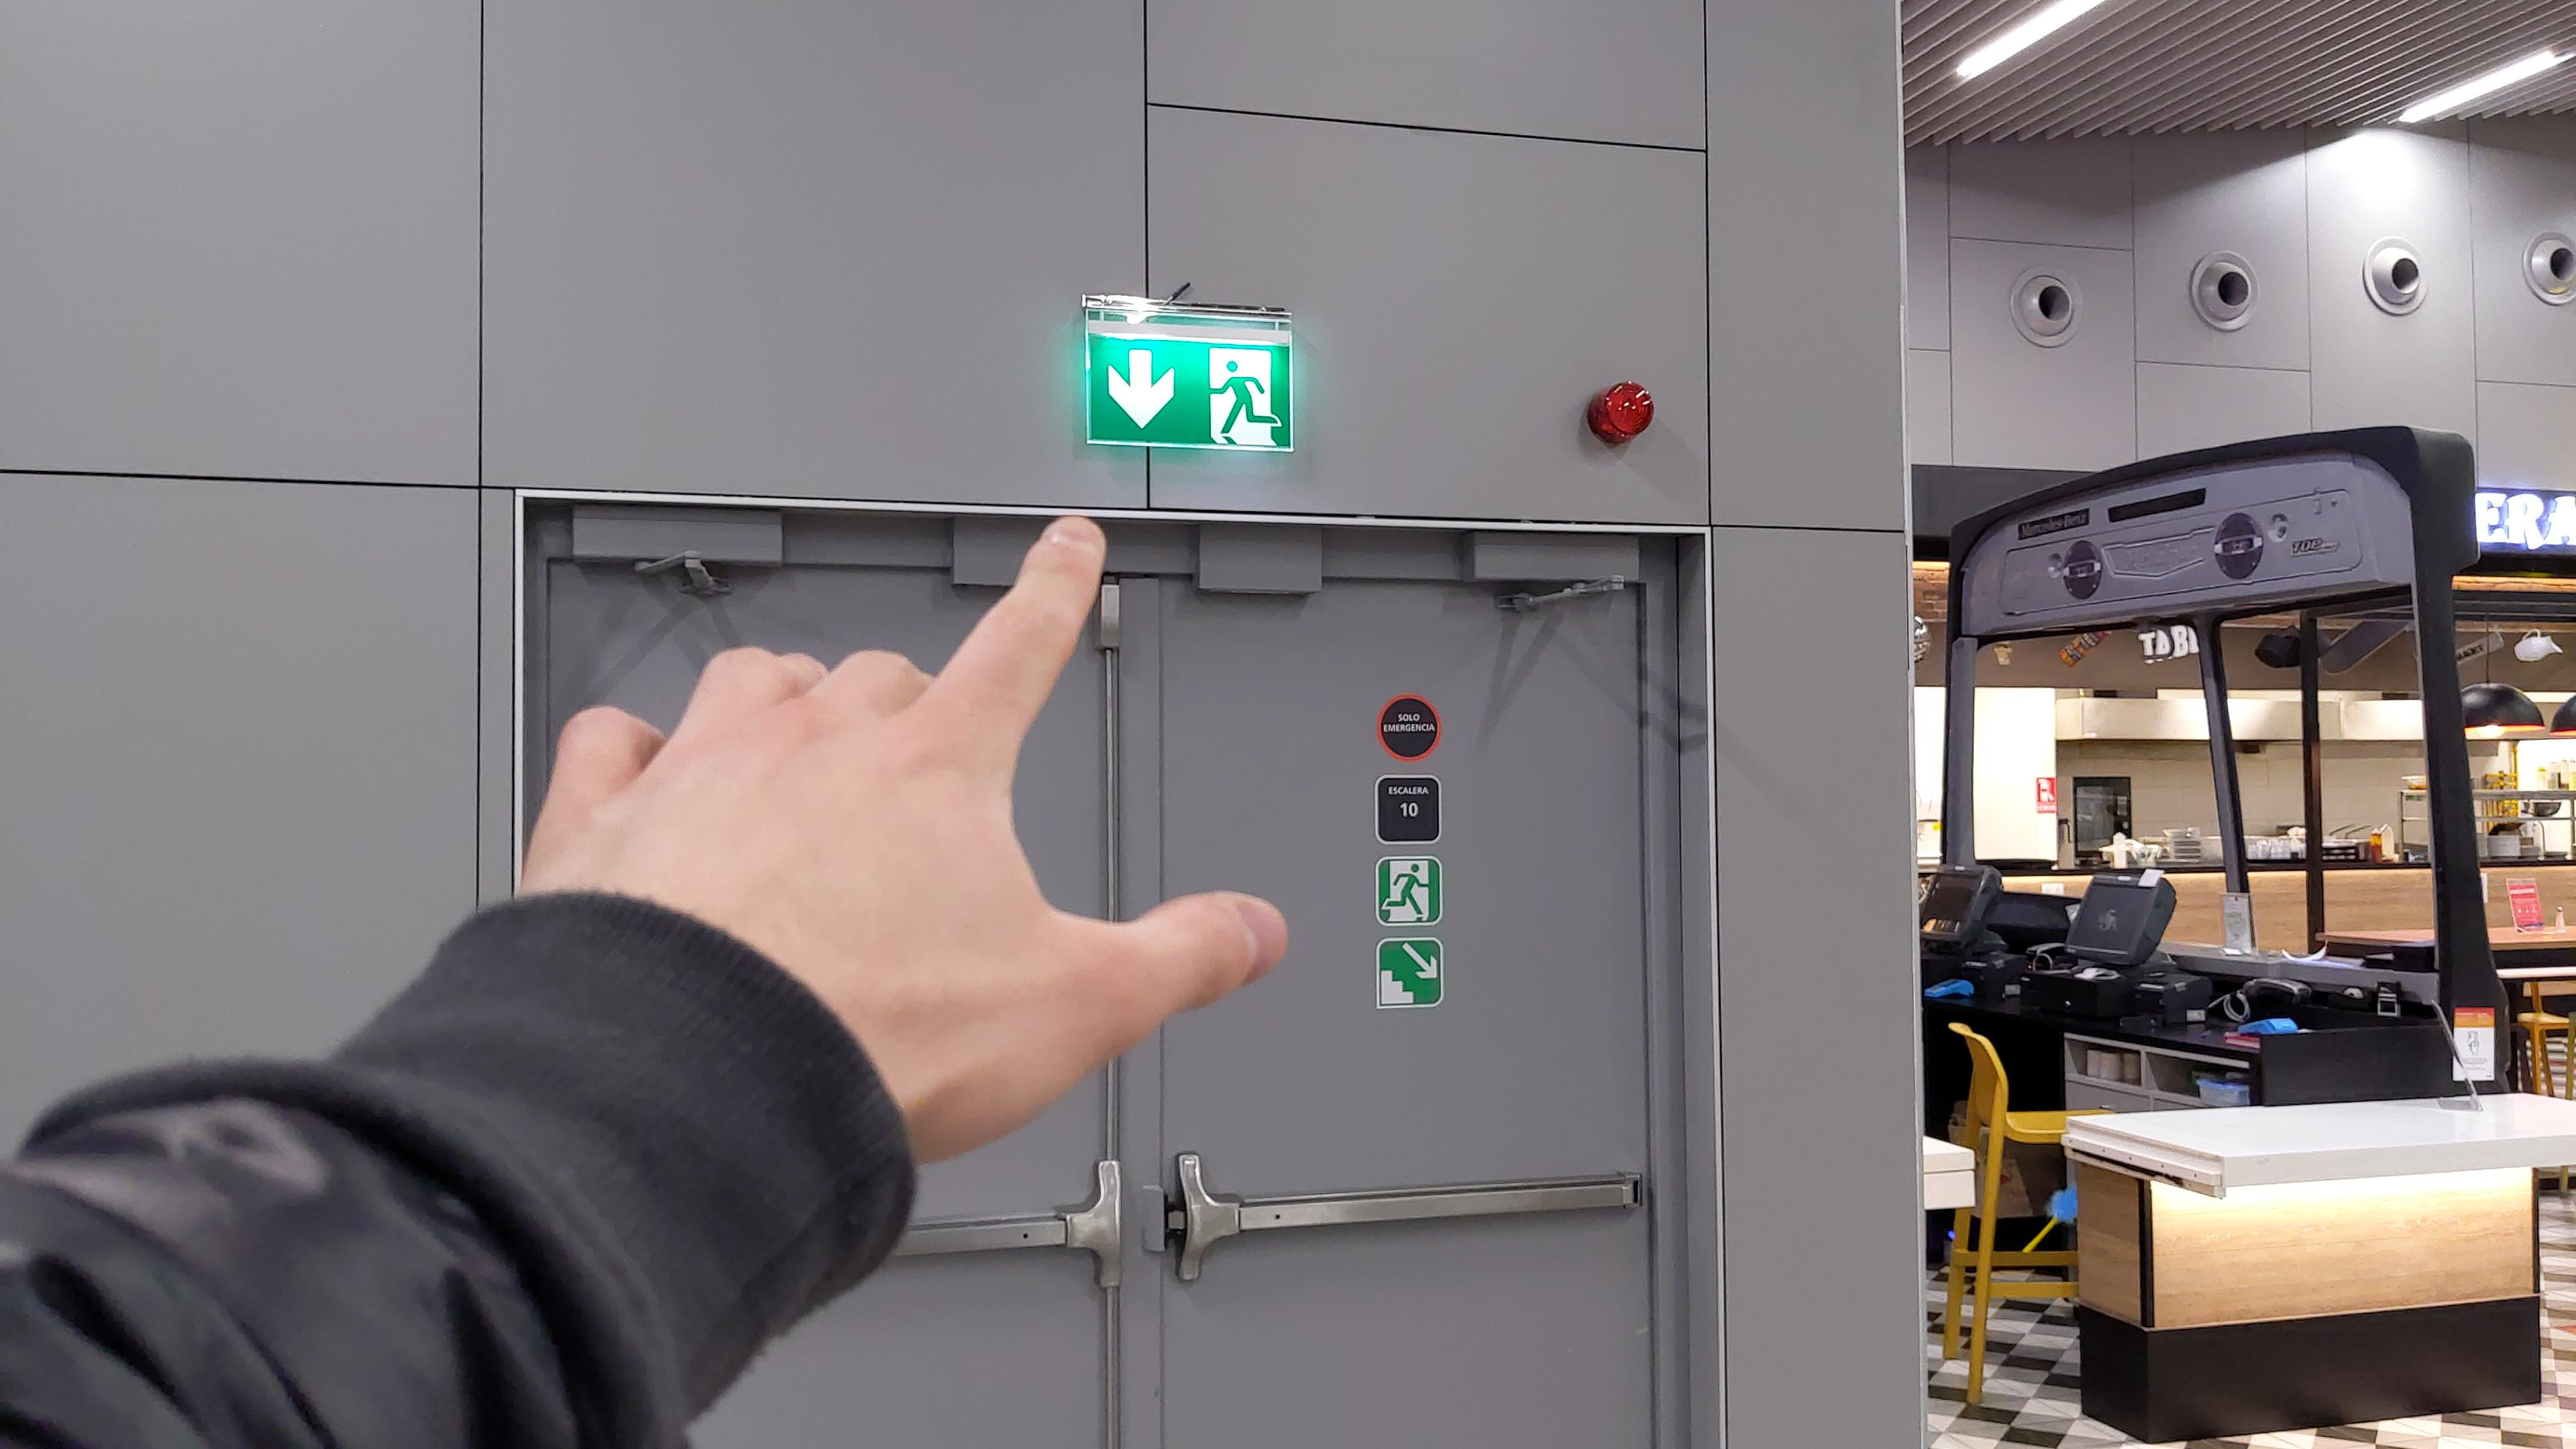emergency down arrow: (1104, 343, 1182, 432)
emergency exit: (1205, 343, 1288, 451), (1380, 860, 1442, 922)
